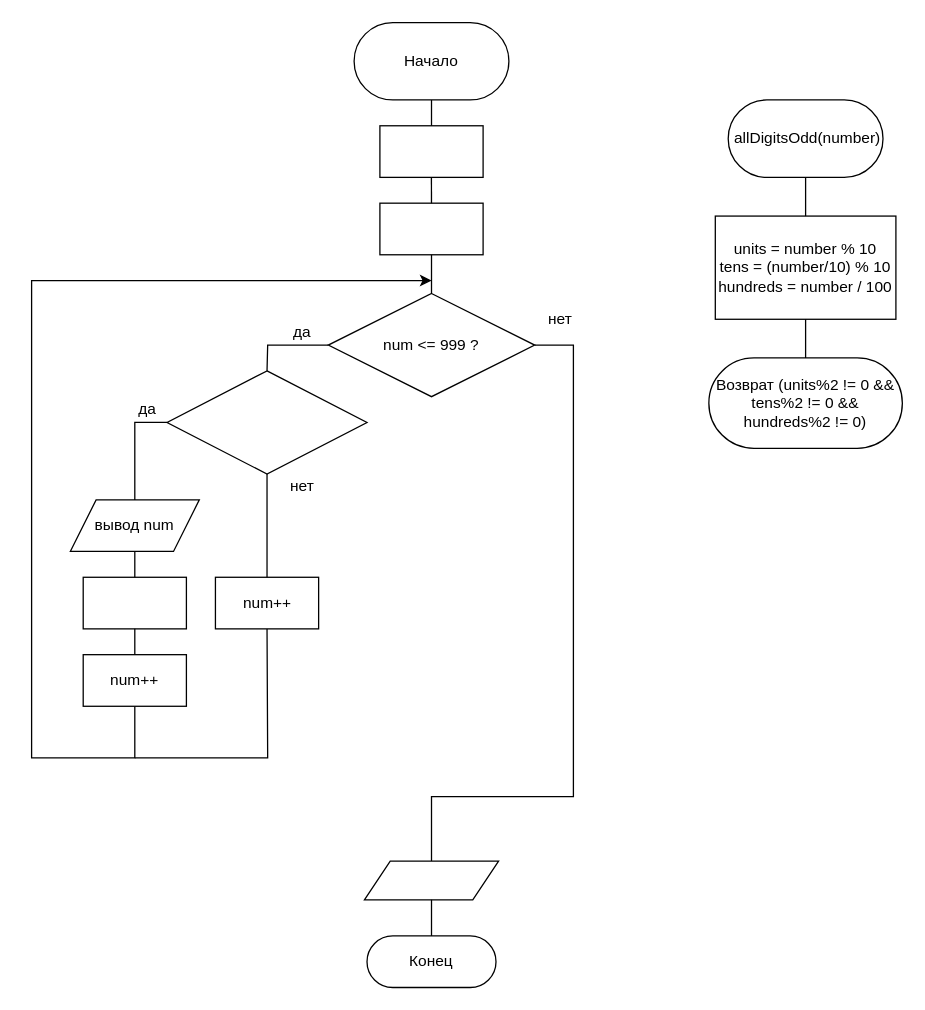
This 925x1010 diagram has some shape labels left out. Each missing label, with the box of its shape:
allDigitsOdd(num) ?: (166, 370, 367, 474)
count = 0: (379, 124, 483, 177)
count++: (82, 576, 186, 629)
num = 111: (379, 202, 483, 255)
вывод count: (363, 860, 499, 900)
